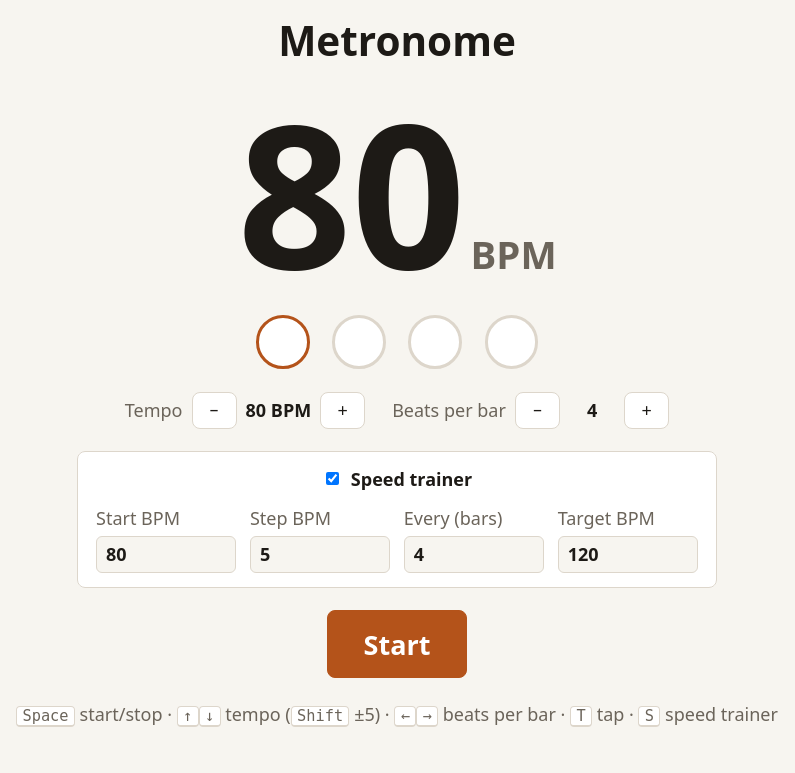
Test case: an emptied field keeps its text and reports the error
This screenshot has width=795, height=773.
Clear the number field labelled "Step BPM" at (320, 554), box [250,536,390,573]
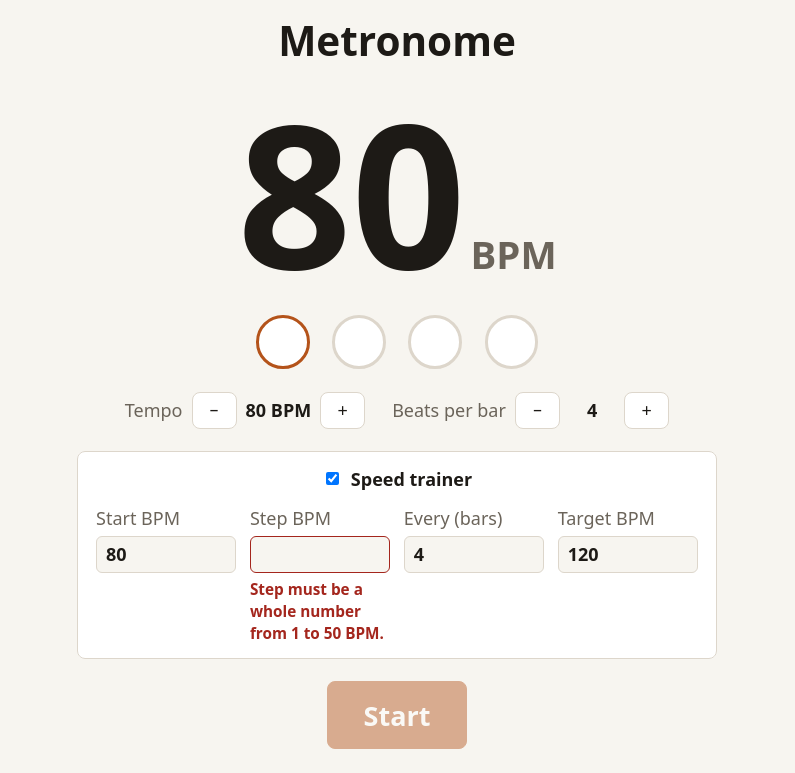
Expected: the message shows "Step must be", [250,578,384,643]
Type "10" into the number field labelled "Step BPM" at (320, 554), box [250,536,390,573]
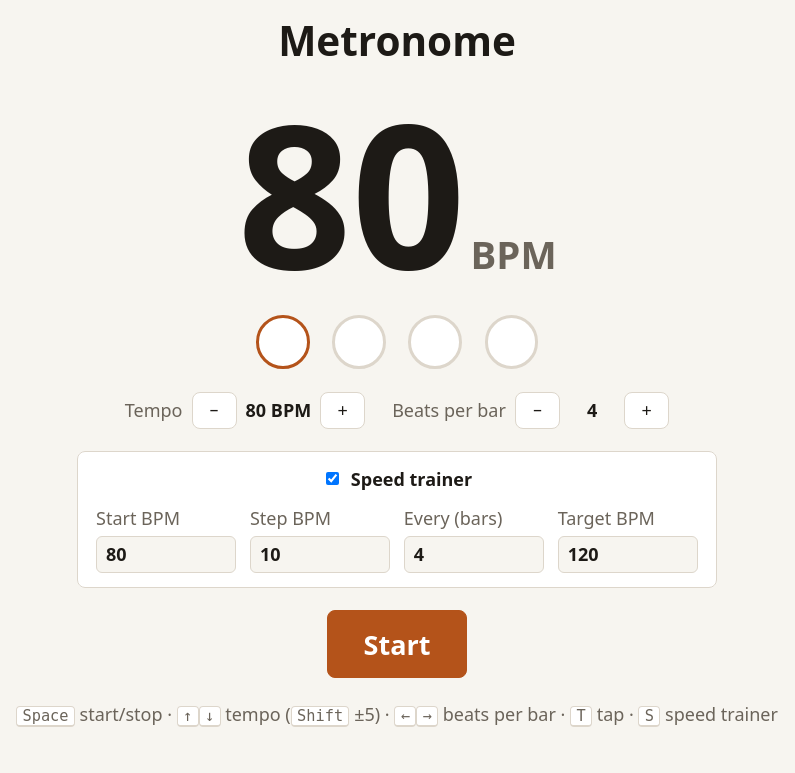
Expected: the message "Step must be a whole number from 1 to 50 BPM." is gone
